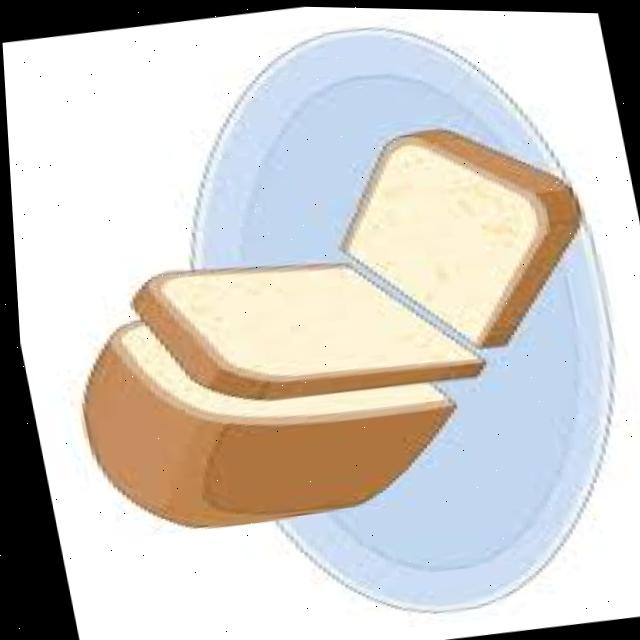Bread: (339, 128, 573, 344), (130, 261, 477, 398)
